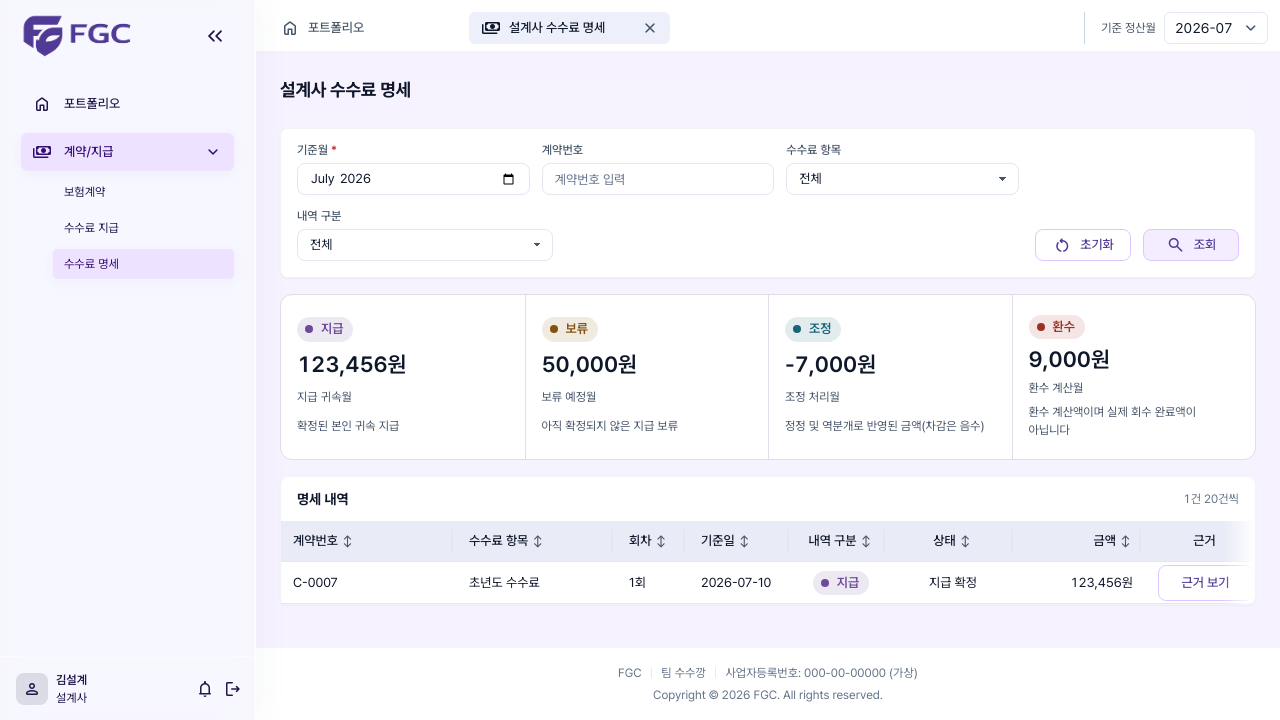
Test: RPT-W02 설계사 수수료 명세 › 근거의 정산월은 월까지만, 지급일은 날짜까지 보인다
The image size is (1280, 720).
Click the button with aria-label "C-0007 근거 보기" at (1206, 583), box [1158,565,1254,601]
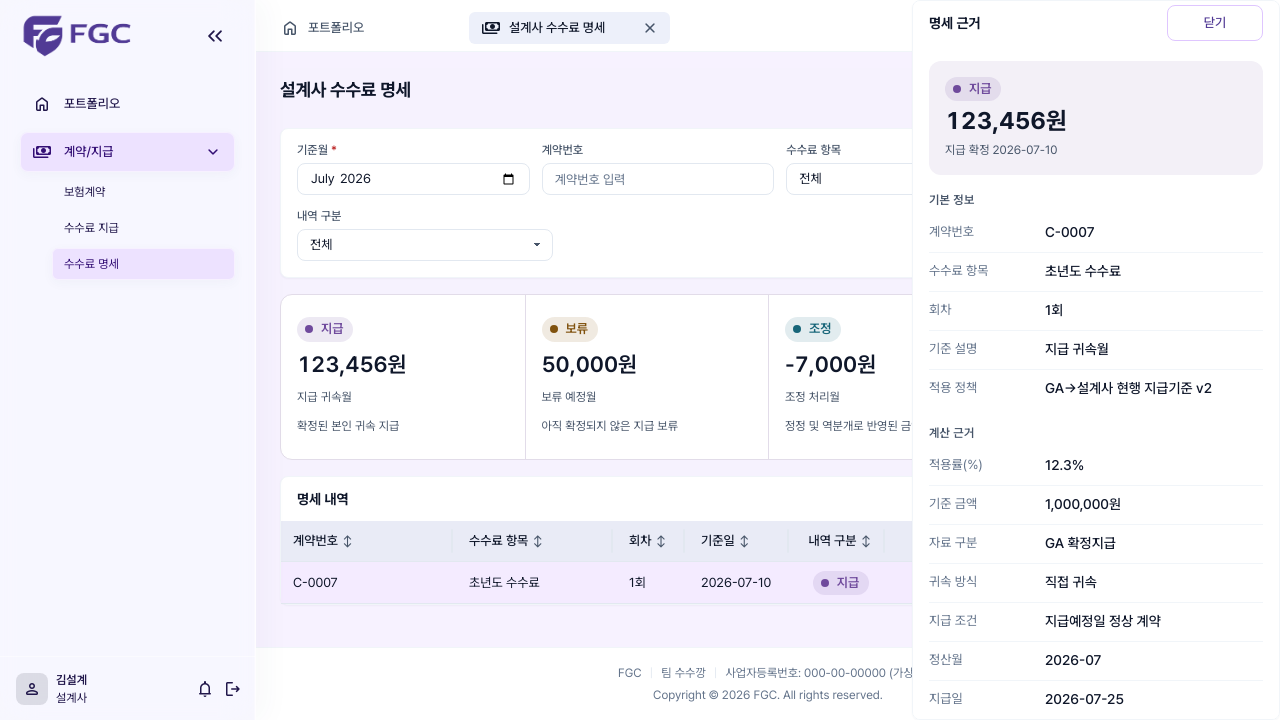
Now the text "2026-07" is shown, box [1045,652,1101,668]
Now the text "2026-07-25" is shown, box [1045,691,1124,707]
